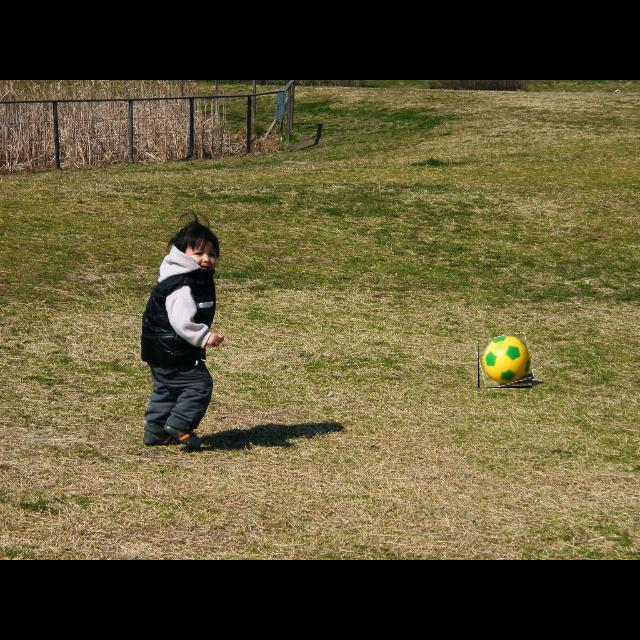Football: (478, 334, 532, 388)
